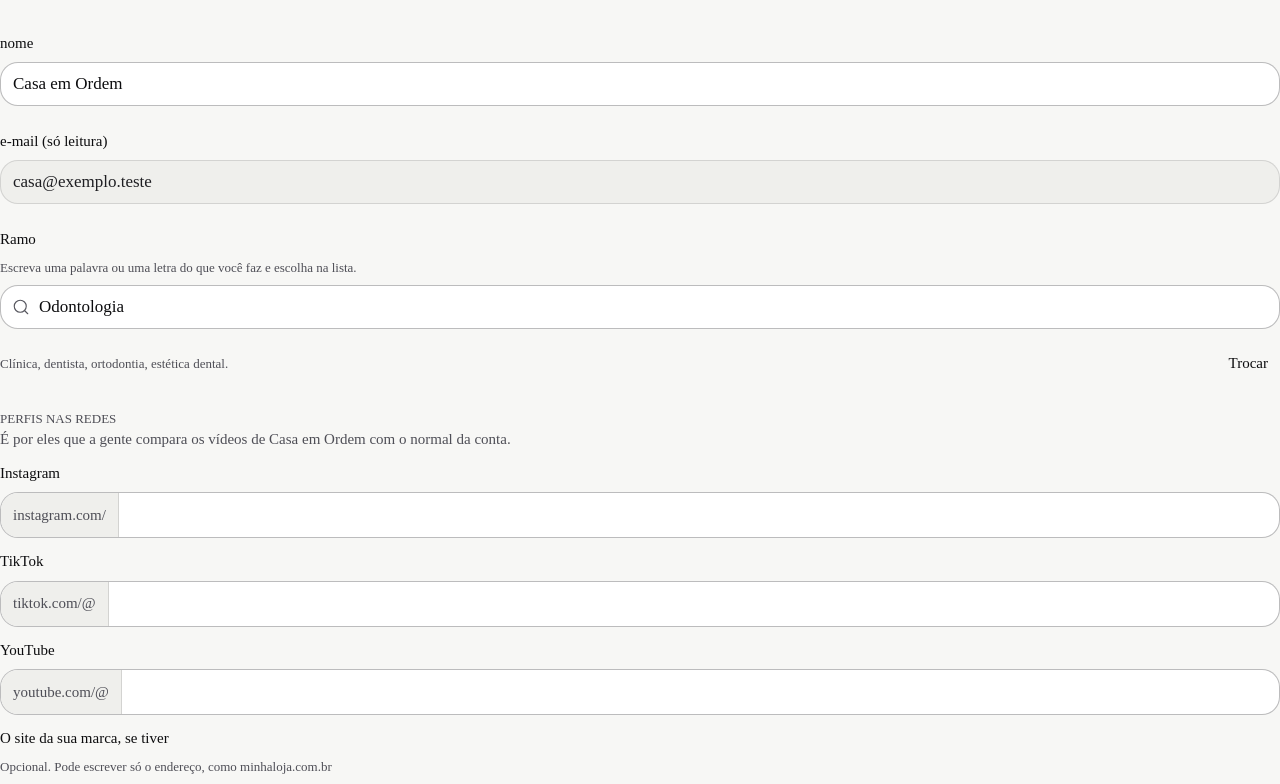
Test: FormularioConta: o 'Não achei o meu' (E45 PR 2) › a lista oferece 'Não achei o meu'; escolher abre o campo de texto livre com o que a pessoa digitou
Replace the text in the dropdown labelled "Ramo" with "criação de abelhas": (640, 307) [0, 285, 1279, 329]
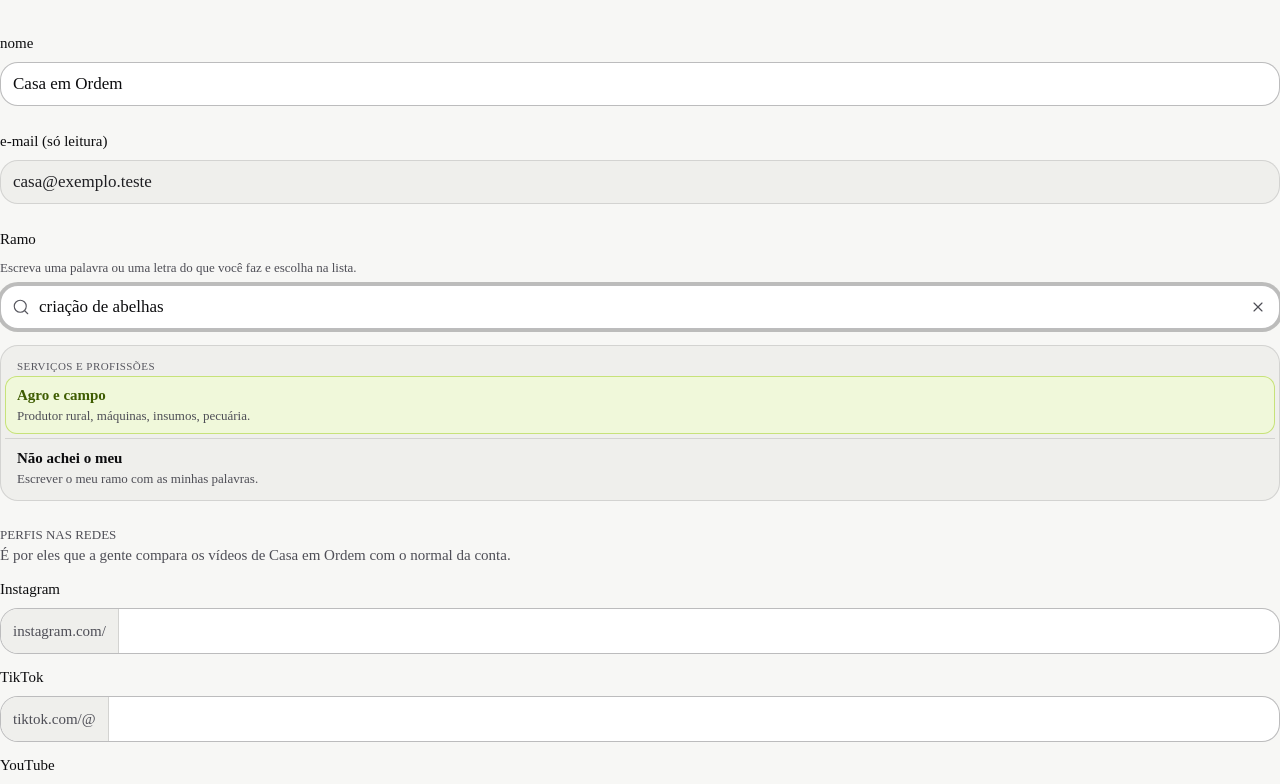
Press ArrowDown in the dropdown labelled "Ramo", box [0, 285, 1279, 329]
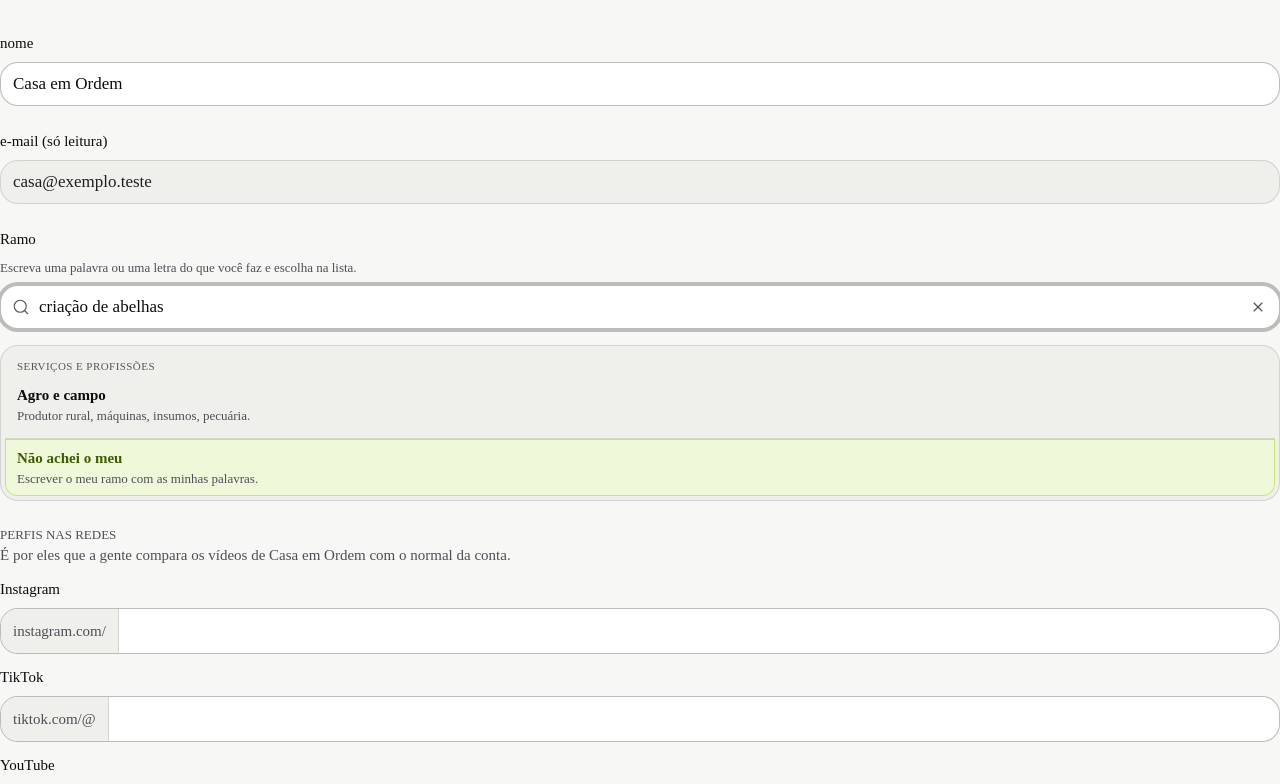
Now the option "Não achei o meu Escrever o meu ramo com as minhas palavras." is shown
Click the option "Não achei o meu Escrever o meu ramo com as minhas palavras.": (70, 458) [5, 438, 1275, 496]
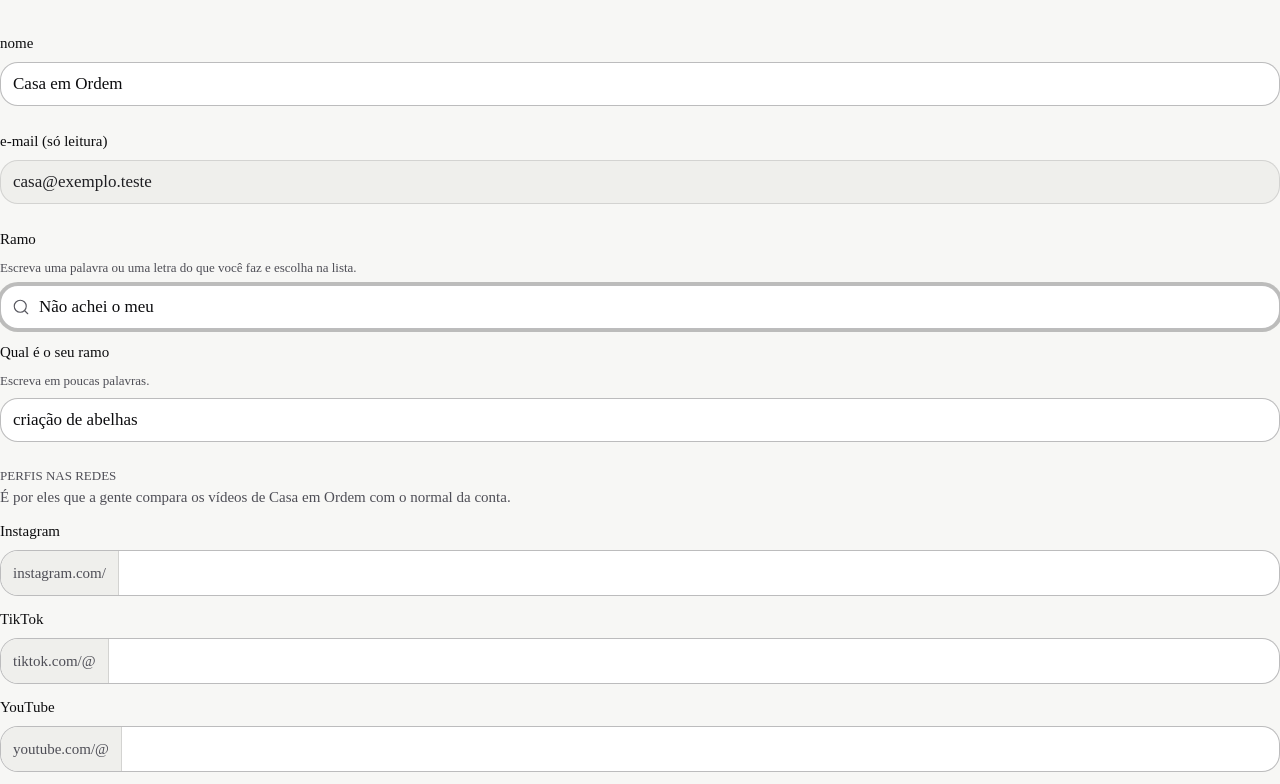
Now the field labelled "Qual é o seu ramo" holds "criação de abelhas", box [0, 398, 1279, 442]
Now the dropdown labelled "Ramo" holds "Não achei o meu", box [0, 285, 1279, 329]
